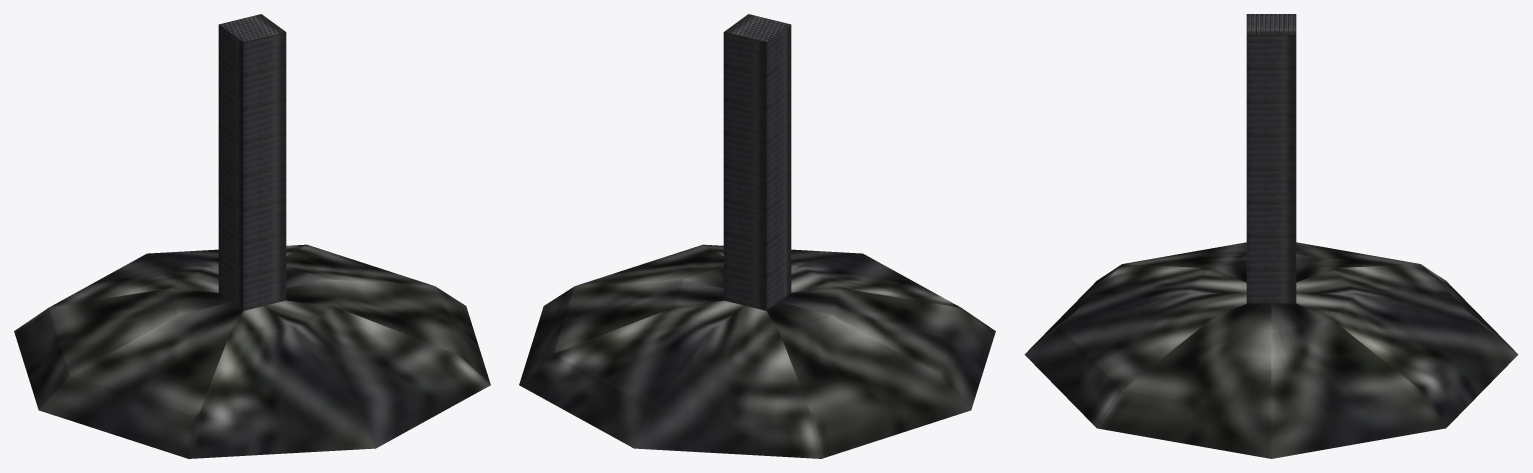
The model's file is metallic_hook.fbx.
3 views of the same model, side by side, from view 1: azimuth 30°, elevation 25°; view 2: azimuth 150°, elevation 25°; view 3: azimuth 270°, elevation 25° (orthographic).
Parts seen in each view (by area): view 1: Cube; view 2: Cube; view 3: Cube.
Boxes of the visible parts, bbox=[...] form: Cube: bbox=[14, 14, 490, 458]; Cube: bbox=[519, 14, 995, 458]; Cube: bbox=[1024, 14, 1518, 458].
Size of the model in its own units: 200 by 147 by 200.
Materials: 2 (2 with a texture image).
